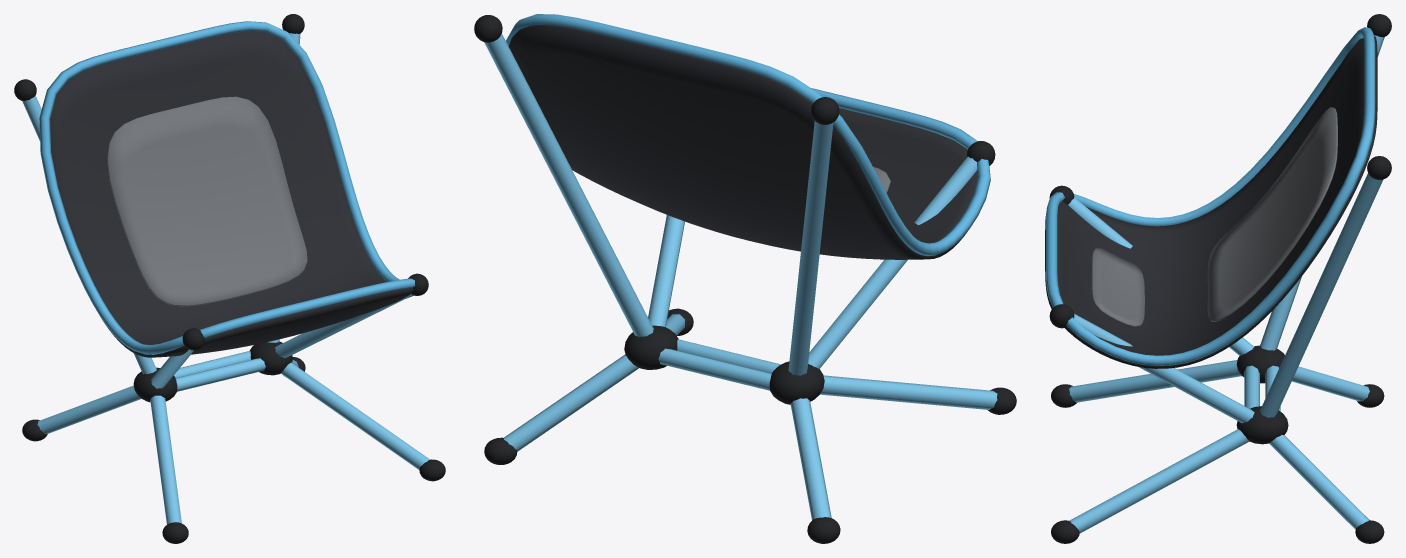
File: helinox-chair-one.glb
3 renders of one model, left to right at view 1: azimuth 30°, elevation 25°; view 2: azimuth 150°, elevation 25°; view 3: azimuth 270°, elevation 25°, orthographic. The views are drawn at different scales.
Visible parts, largest first — view 1: helinox-chair-one-fabric, helinox-chair-one-mesh, helinox-chair-one-trim, helinox-chair-one-frame, helinox-chair-one-joint; view 2: helinox-chair-one-fabric, helinox-chair-one-frame, helinox-chair-one-trim, helinox-chair-one-joint; view 3: helinox-chair-one-fabric, helinox-chair-one-frame, helinox-chair-one-mesh, helinox-chair-one-trim, helinox-chair-one-joint.
Part boxes in pixels (x1,y1,x2,y2): helinox-chair-one-fabric: (50, 31, 413, 357); helinox-chair-one-mesh: (107, 96, 307, 306); helinox-chair-one-trim: (39, 21, 414, 354); helinox-chair-one-frame: (22, 33, 430, 524); helinox-chair-one-joint: (14, 14, 445, 543); helinox-chair-one-fabric: (508, 25, 977, 259); helinox-chair-one-frame: (484, 33, 997, 520); helinox-chair-one-trim: (506, 14, 990, 256); helinox-chair-one-joint: (474, 15, 1016, 543); helinox-chair-one-fabric: (1045, 36, 1377, 368); helinox-chair-one-frame: (1068, 35, 1384, 533); helinox-chair-one-mesh: (1091, 107, 1337, 327); helinox-chair-one-trim: (1046, 27, 1375, 365); helinox-chair-one-joint: (1049, 14, 1391, 543).
Size of the model in its own units: 0.53 by 0.65 by 0.51.
